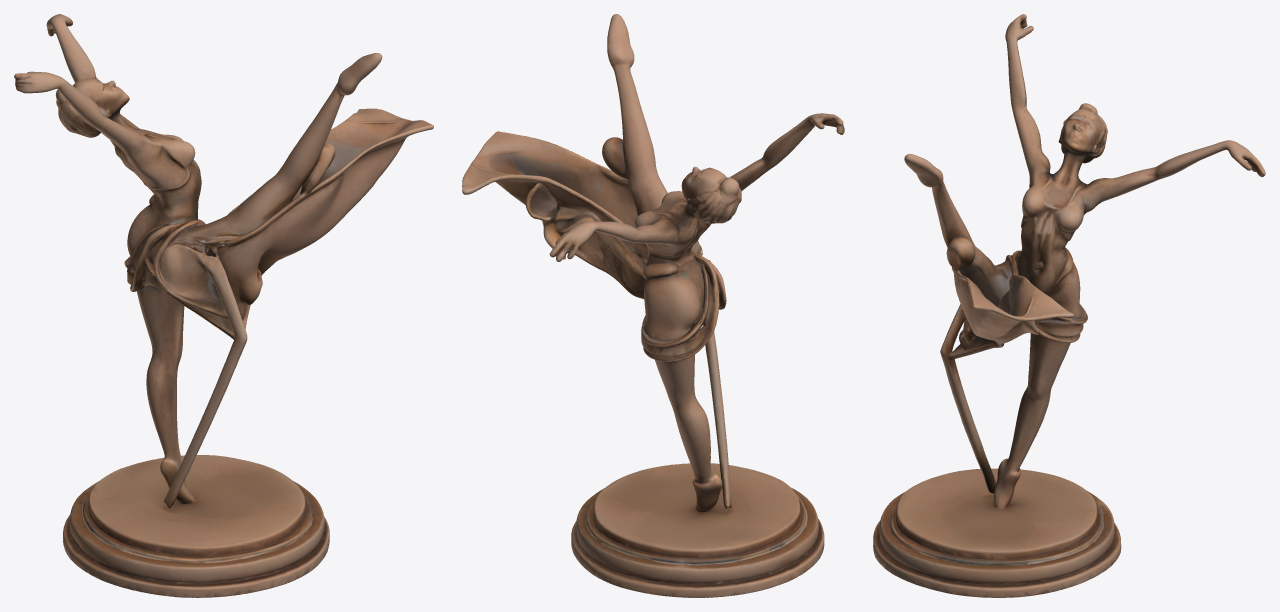
File: plaza-statue-dancer.glb
The picture shows the model from 3 angles, left to right: view 1: azimuth 30°, elevation 25°; view 2: azimuth 150°, elevation 25°; view 3: azimuth 270°, elevation 25°; orthographic projection. The views are drawn at different scales.
Visible parts, largest first — view 1: tripo_node_df1af948-30a9-4437-8541-8a438d909c06; view 2: tripo_node_df1af948-30a9-4437-8541-8a438d909c06; view 3: tripo_node_df1af948-30a9-4437-8541-8a438d909c06.
Part boxes in pixels (x1,y1,x2,y2): tripo_node_df1af948-30a9-4437-8541-8a438d909c06: (14,14,433,597); tripo_node_df1af948-30a9-4437-8541-8a438d909c06: (462,14,844,597); tripo_node_df1af948-30a9-4437-8541-8a438d909c06: (873,14,1265,597).
Size of the model in its own units: 2.89 by 3.5 by 2.72.
Materials: 1 (1 with a texture image).
